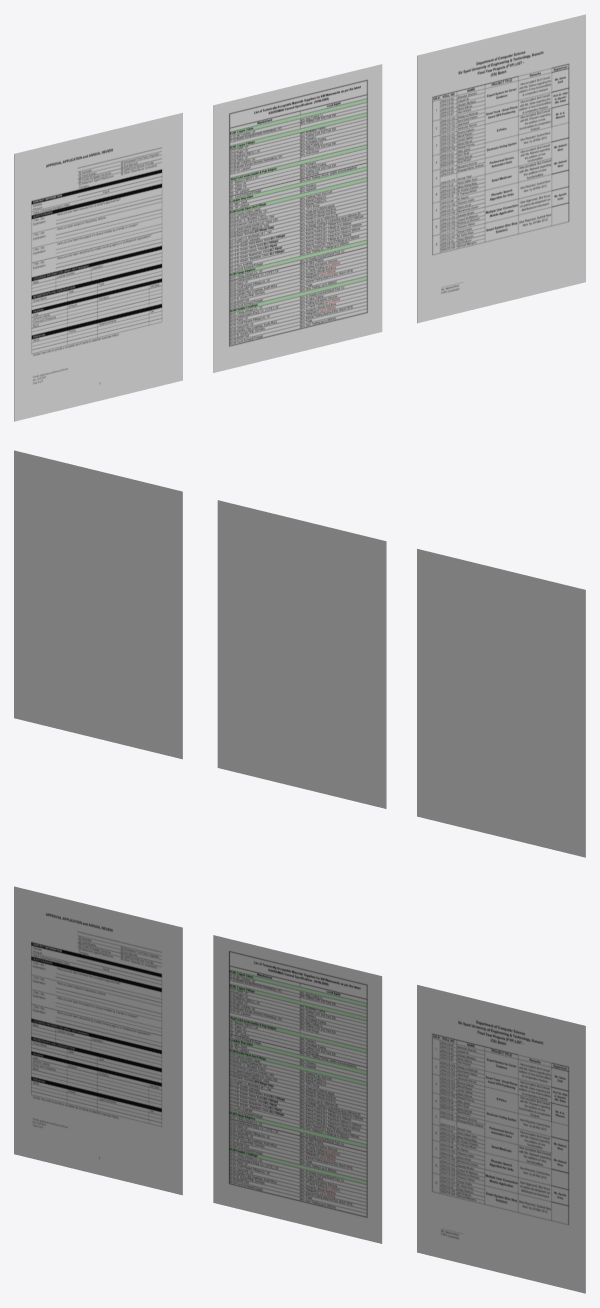
The model's file is Wall papers.fbx.
The picture shows the model from 3 angles, top to bottom: view 1: azimuth 30°, elevation 25°; view 2: azimuth 150°, elevation 25°; view 3: azimuth 330°, elevation 25°; orthographic projection.
Parts seen in each view (by area): view 1: paper 2, paper 1, paper 3; view 2: paper 2, paper 1, paper 3; view 3: paper 2, paper 1, paper 3.
Part boxes in pixels (x1,y1,x2,y2): paper 2: (213,64,382,372); paper 1: (14,112,182,421); paper 3: (417,14,585,323); paper 2: (217,500,386,808); paper 1: (417,548,585,857); paper 3: (14,450,182,759); paper 2: (213,935,382,1243); paper 1: (14,886,182,1195); paper 3: (417,984,585,1293).
Bounding box in the file's own units: 93.21 × 41.71 × 0.0665.
Materials: 1 (1 with a texture image).
